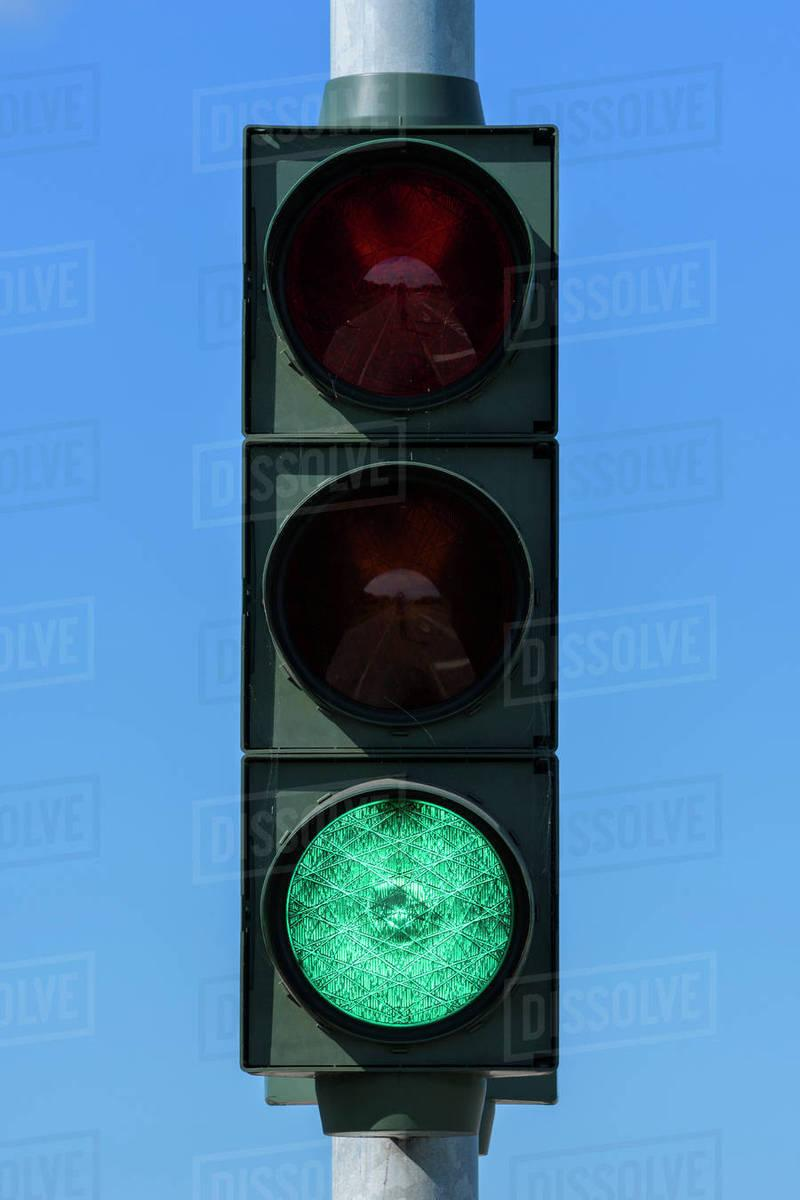Traffic light green: (193, 137, 597, 1070)
